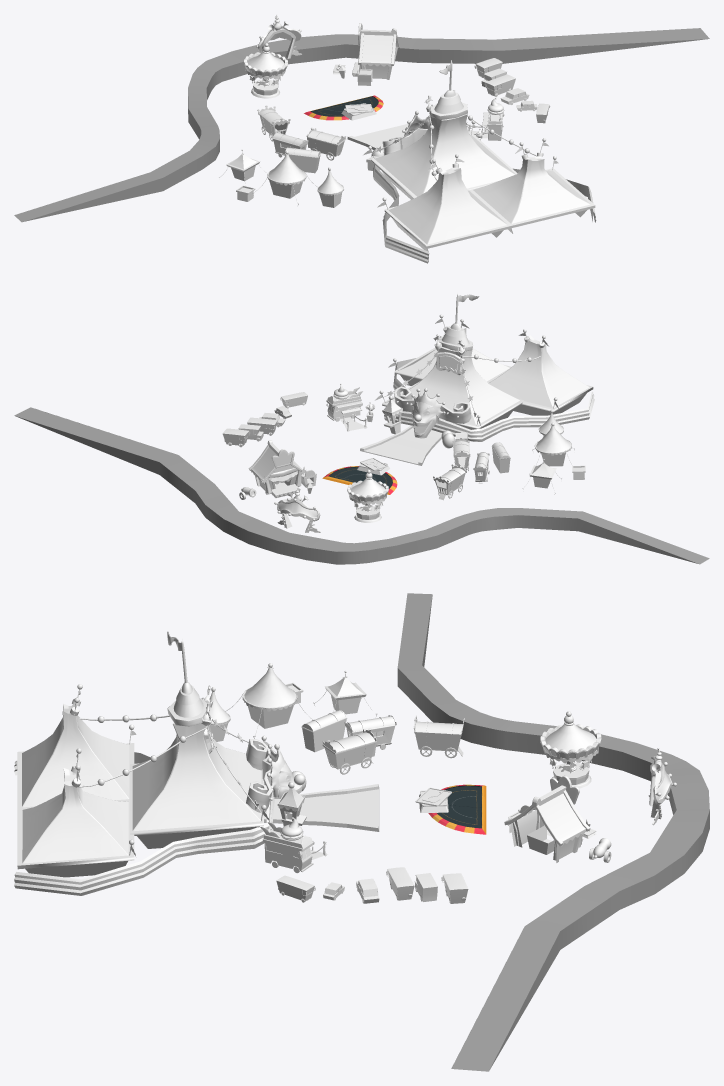
File: SceneProps.fbx
The picture shows the model from 3 angles, top to bottom: view 1: azimuth 30°, elevation 25°; view 2: azimuth 150°, elevation 25°; view 3: azimuth 270°, elevation 25°; orthographic projection. The views are drawn at different scales.
Parts seen in each view (by area): view 1: MainCamp, Road, Show_Camp, MarryGoRound, H2, W7, CardPlatform, CircusEntrance, FoodTruck1, W3, H1, W1 (+4 smaller); view 2: MainCamp, Road, Show_Camp, MarryGoRound, FoodTruck1, H2, CircusEntrance, CardPlatform, W3, H3, W7, W1; view 3: MainCamp, Road, Show_Camp, MarryGoRound, H2, FoodTruck1, CardPlatform, W7, W3, W1, CircusEntrance, H3 (+1 smaller).
Boxes of the visible parts, x1,y1,x2,y2 form: MainCamp: (347,60,596,263); Road: (14,28,709,222); Show_Camp: (333,23,399,85); MarryGoRound: (244,43,288,98); H2: (236,151,317,204); W7: (306,127,346,160); CardPlatform: (304,95,383,120); CircusEntrance: (256,14,301,58); FoodTruck1: (466,97,504,140); W3: (257,105,290,141); H1: (317,167,343,207); W1: (285,147,321,173); MainCamp: (360,293,594,465); Road: (14,407,709,564); Show_Camp: (239,440,316,502); MarryGoRound: (347,469,388,522); FoodTruck1: (326,383,367,431); H2: (532,422,585,479); CircusEntrance: (274,488,320,532); CardPlatform: (322,466,397,494); W3: (433,464,467,500); H3: (522,459,561,494); W7: (452,437,470,470); W1: (491,442,510,473); MainCamp: (14,631,379,895); Road: (397,593,709,1071); Show_Camp: (504,775,611,862); MarryGoRound: (540,711,601,788); H2: (225,663,312,738); FoodTruck1: (260,817,327,873); CardPlatform: (428,784,486,834); W7: (322,728,376,774); W3: (413,715,464,758); W1: (301,710,347,752); CircusEntrance: (648,748,676,825); H3: (313,670,377,716).
Size of what is drawn, in the model's own units: 102285 by 19295 by 62875.
